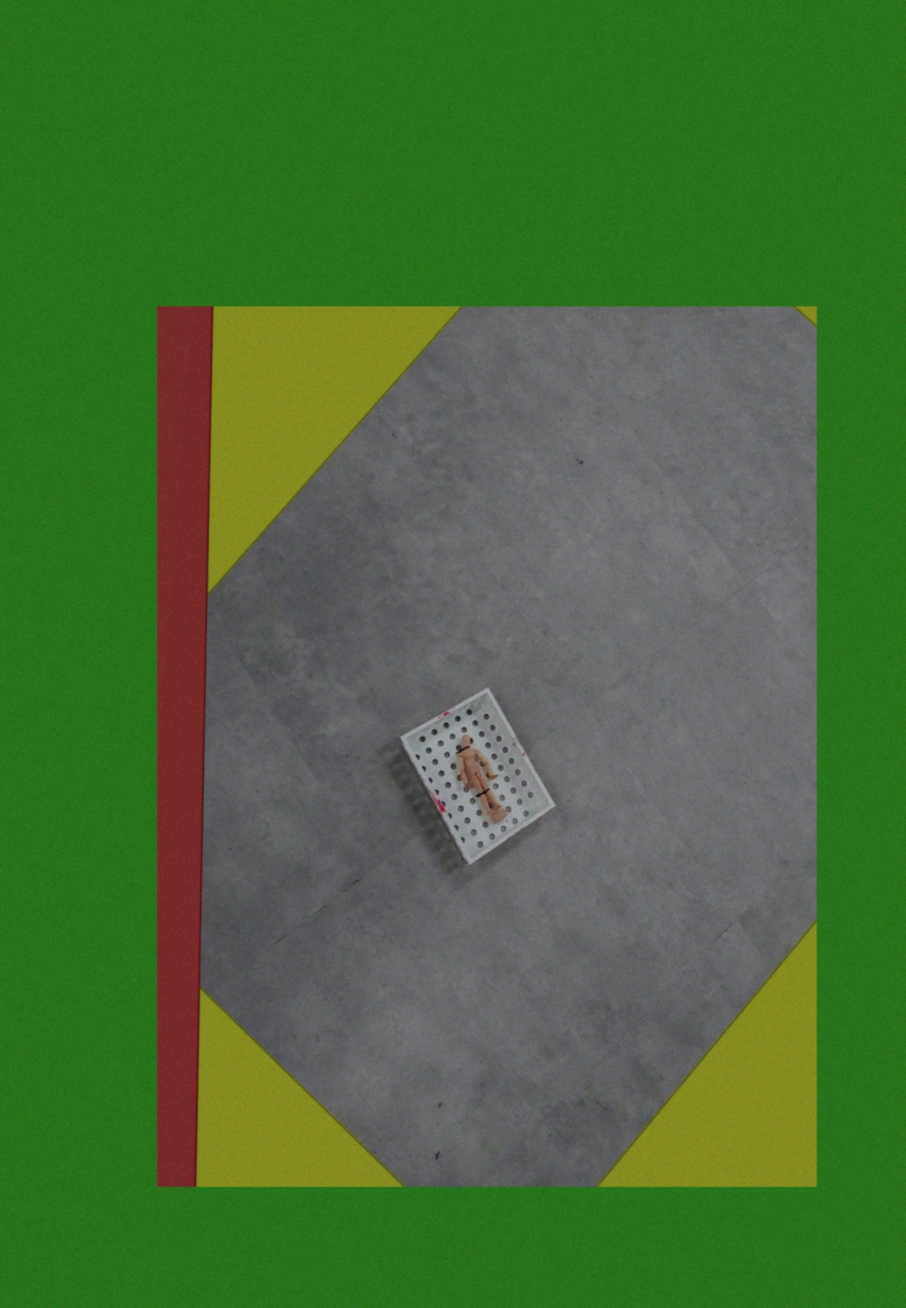basket: (394, 681, 560, 876)
mannequin: (451, 732, 507, 826)
